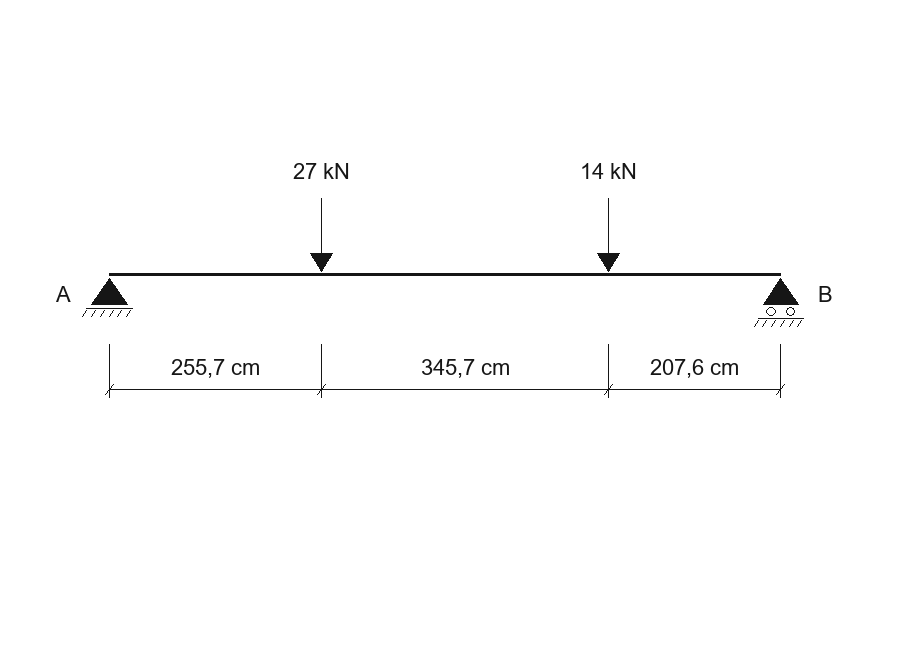pin_support: (82, 278, 133, 317)
point_load: (310, 198, 333, 272), (597, 198, 620, 272)
roller_support: (754, 278, 804, 327)
